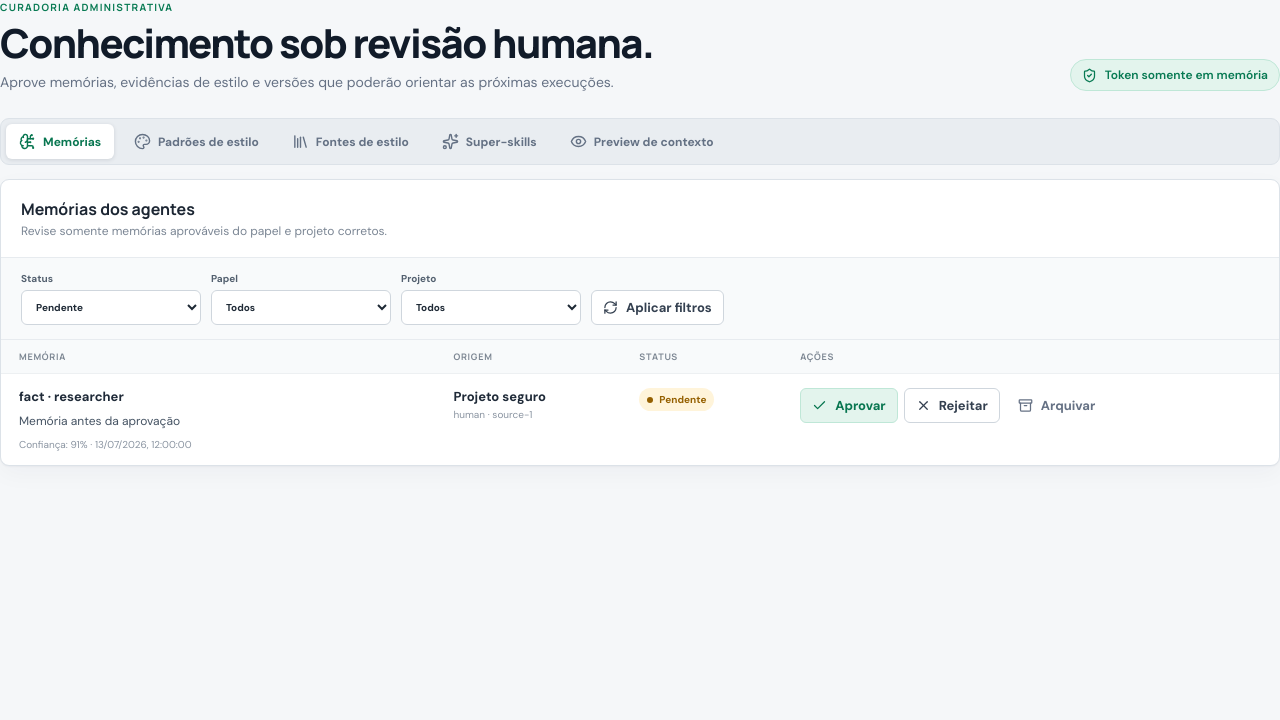
AdminCuration › requires confirmation before approving a memory and refreshes the list
expect the text "Memória antes da aprovação" is shown: met, box [19,413,180,429]
Click the button "Aprovar": (849, 406) [800,388,898,423]
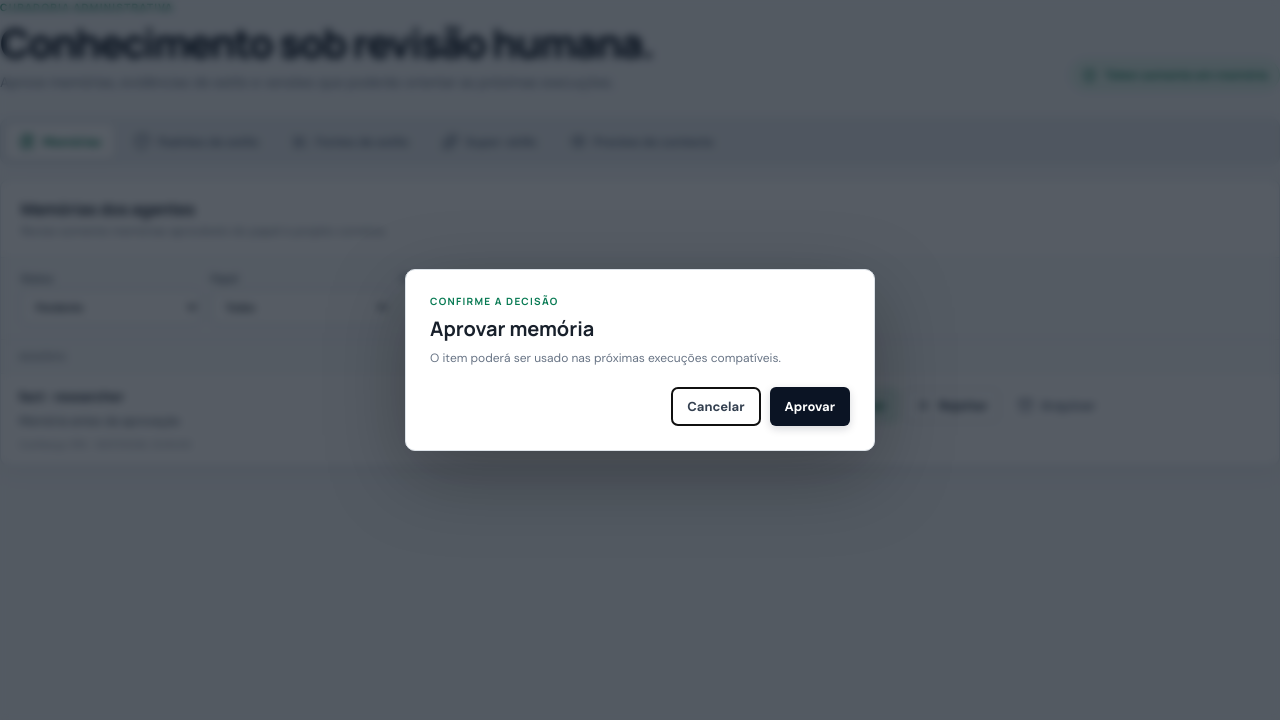
expect the heading "Aprovar memória" is shown: met, box [430,315,594,342]
Click the button "Aprovar": (810, 407) [770,387,850,426]
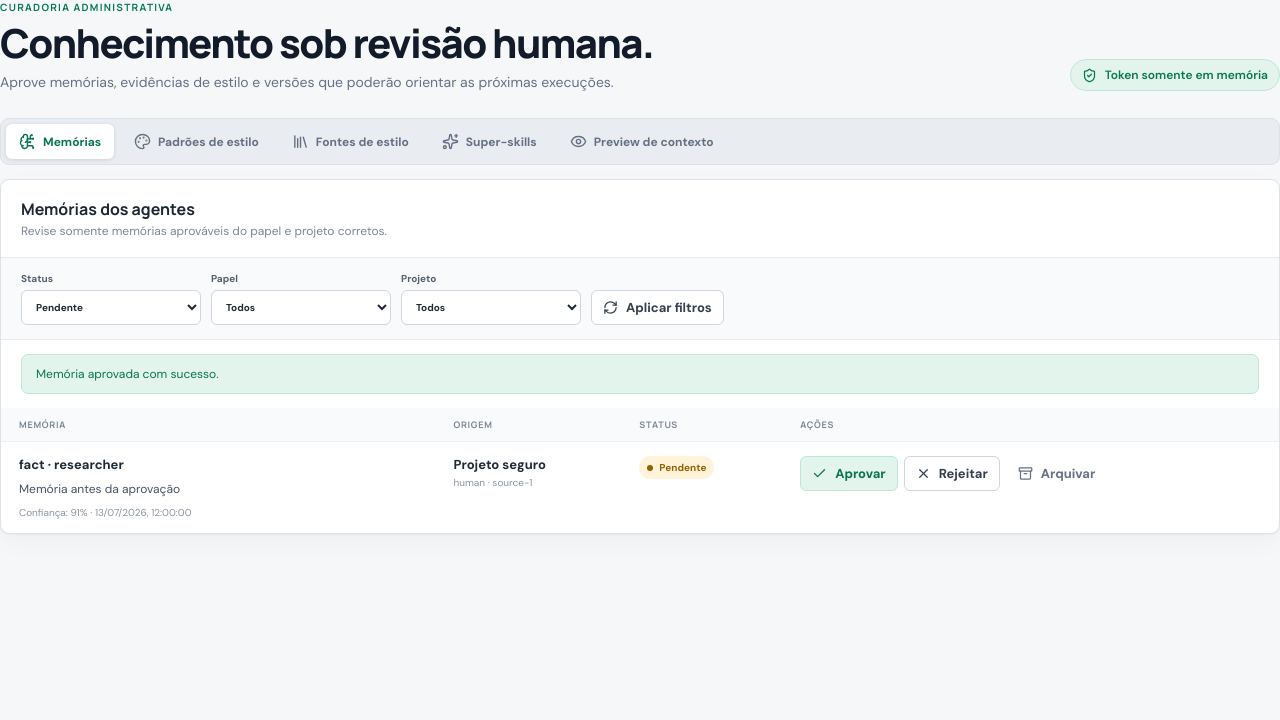
expect the text "Memória aprovada com sucesso." is shown: met, box [21,354,1259,394]
